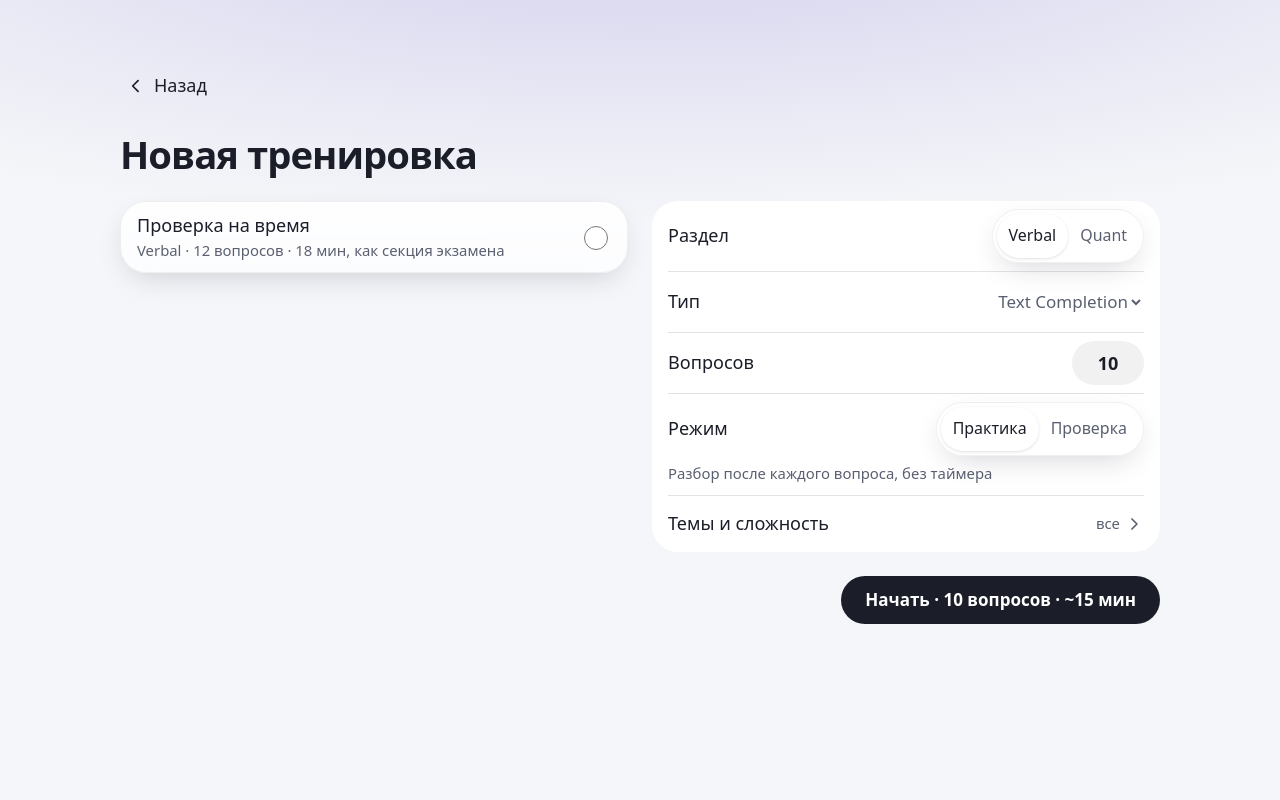
Test case: выбор набора показывает его раздел, типы, число и режим вместо старой формы
Check: the field labelled "Вопросов" is shown, box [1072,341,1144,385]
Click the button "Quant": coordinates (1104, 236) [1068,214,1139,258]
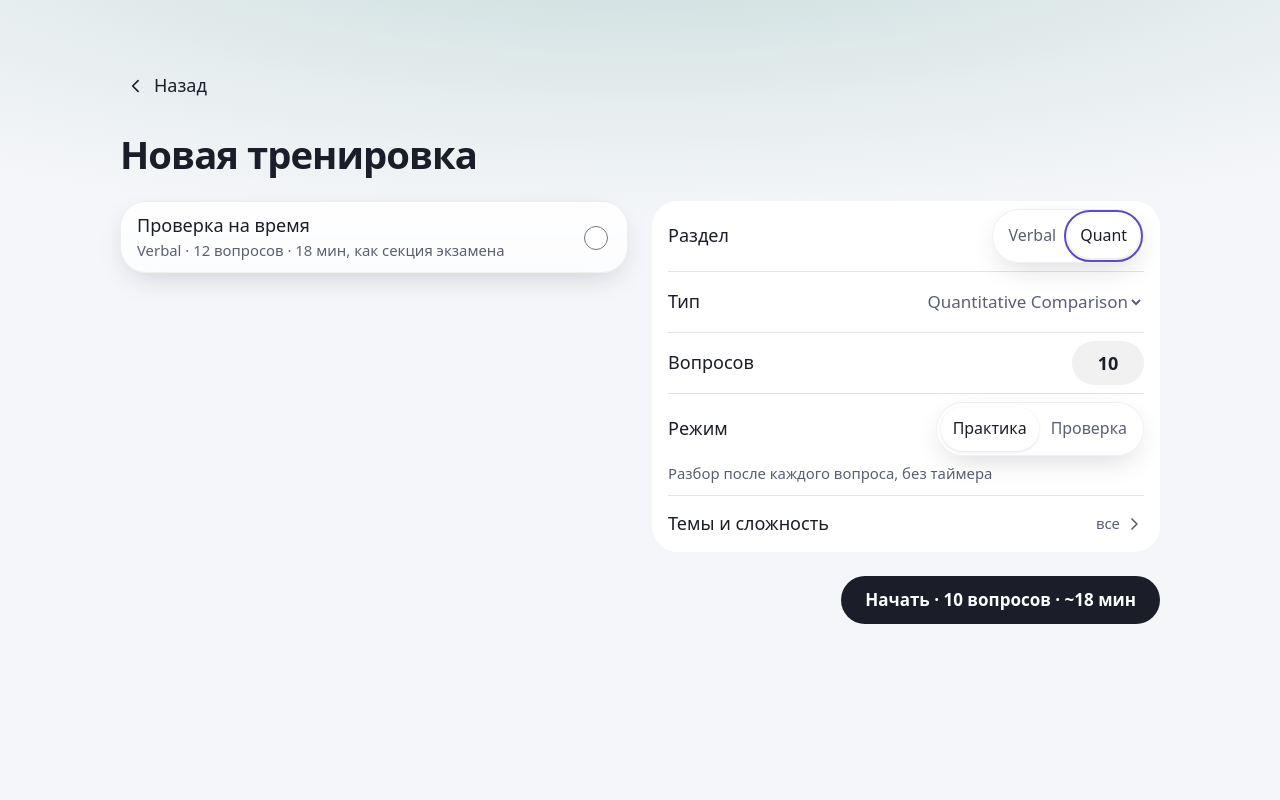
Replace the text in the field labelled "Вопросов" with "5": coordinates (1108, 363) [1072,341,1144,385]
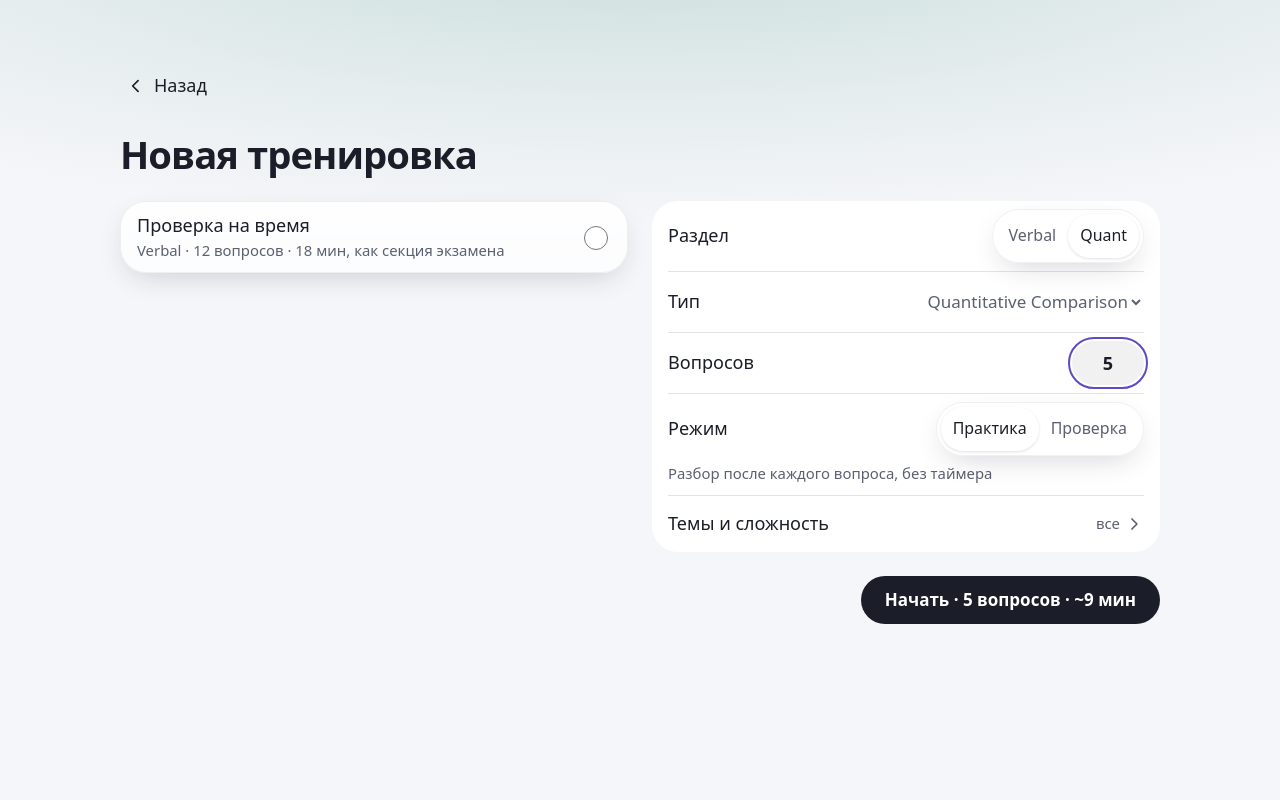
Click the radio button labelled "Проверка на время": coordinates (596, 238) [584,226,608,250]
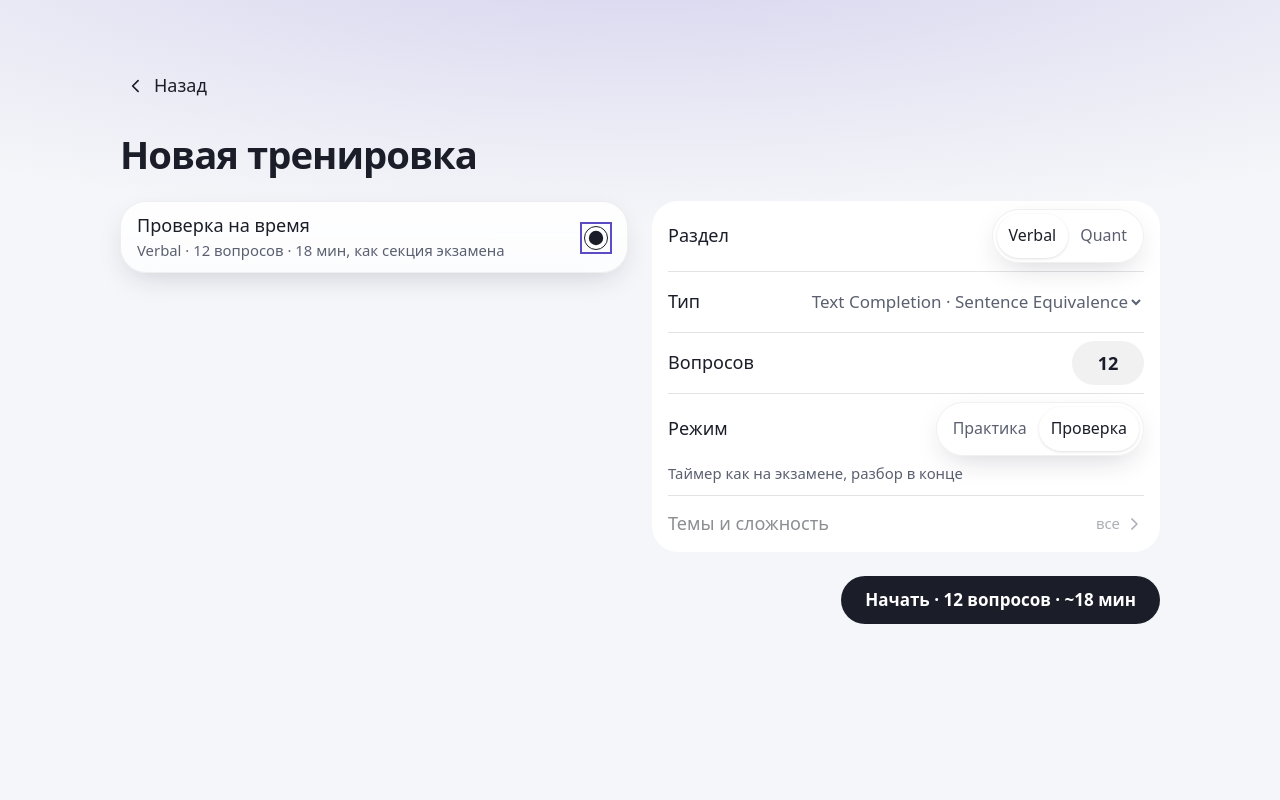
Check: the field labelled "Вопросов" holds "12", box [1072,341,1144,385]
Check: the dropdown labelled "Тип" shows "Text Completion · Sentence Equivalence", box [807,280,1144,324]
Click the button "Начать · 12 вопросов · ~18 мин": coordinates (1001, 600) [841,576,1160,624]
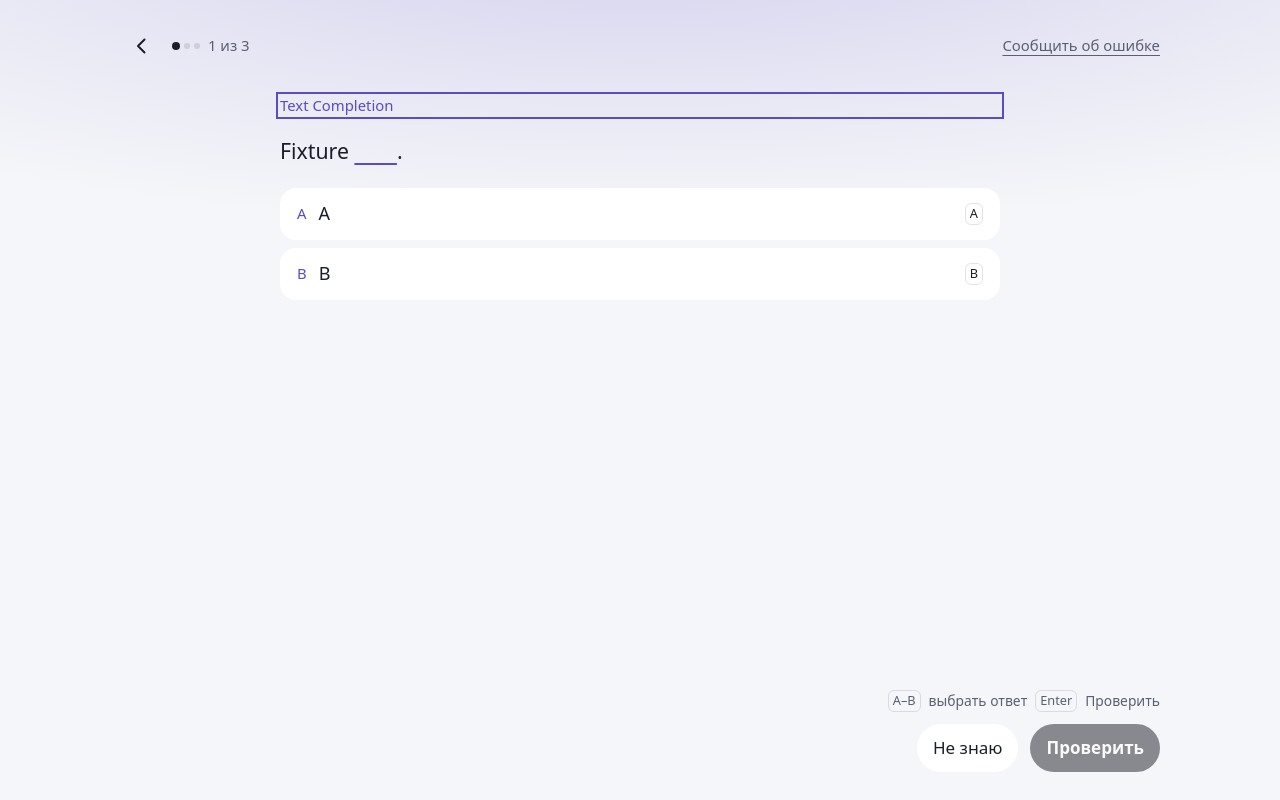
Check: the heading "Text Completion" is shown, box [280,95,393,115]
